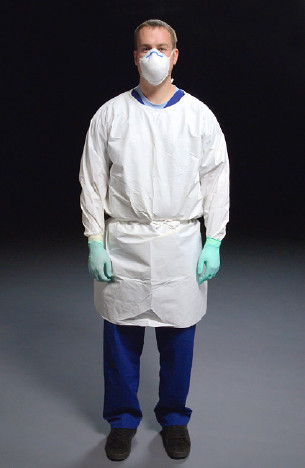face_mask: (134, 28, 172, 83)
